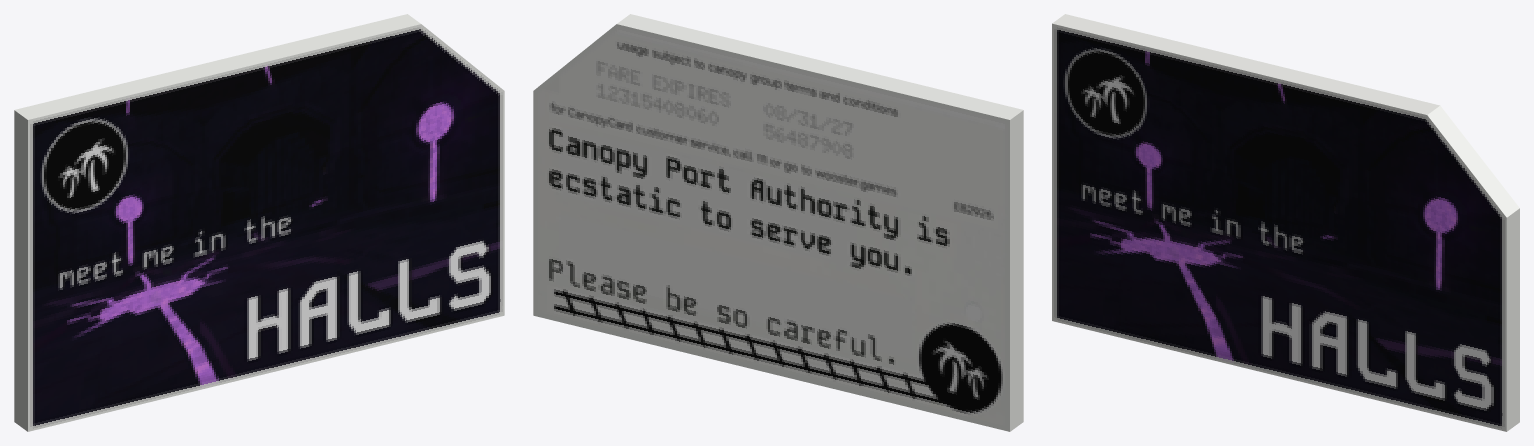
File: item_canopycard_shadowboss.glb
3 renders of one model, left to right at view 1: azimuth 30°, elevation 25°; view 2: azimuth 150°, elevation 25°; view 3: azimuth 330°, elevation 25°, orthographic. The views are drawn at different scales.
Visible parts, largest first — view 1: CanopyCard; view 2: CanopyCard; view 3: CanopyCard.
Boxes of the visible parts, x1,y1,x2,y2 form: CanopyCard: [14, 14, 504, 431]; CanopyCard: [533, 14, 1023, 431]; CanopyCard: [1052, 14, 1519, 431].
Size of the model in its own units: 0.3 by 0.1875 by 0.015.
Materials: 1 (1 with a texture image).
